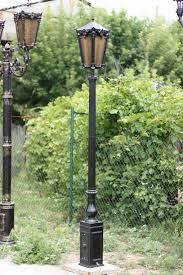Animal: (70, 18, 142, 275), (0, 8, 43, 238)
